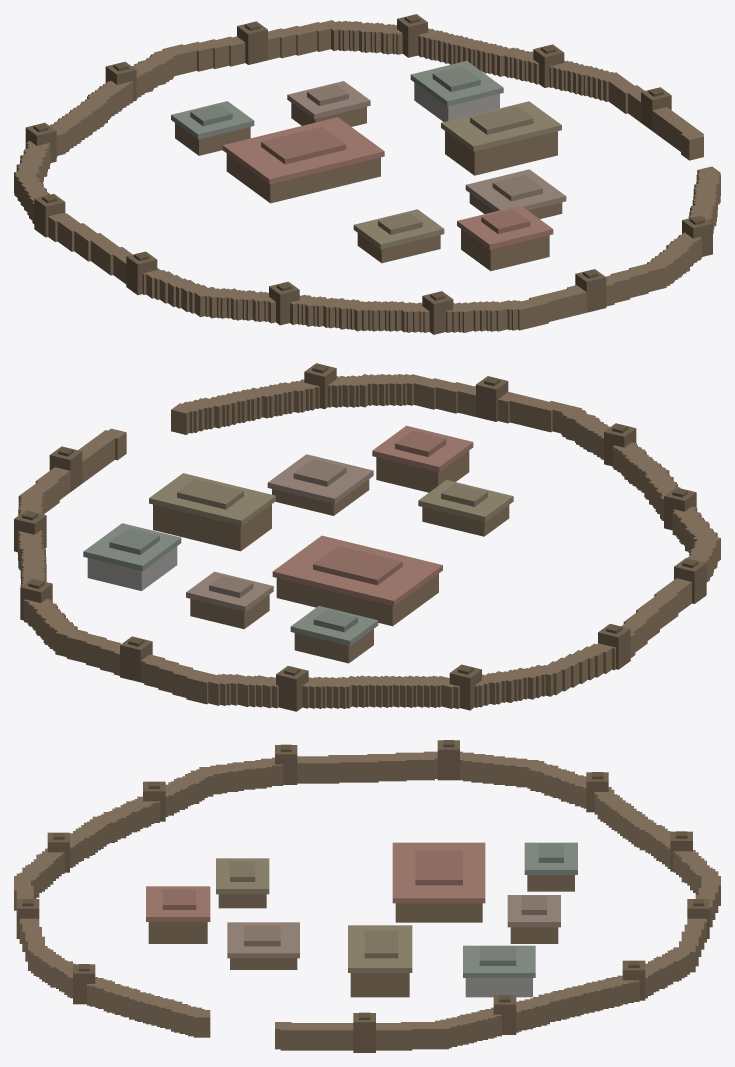
The model's file is ciudad_aldea_maderera_2048_1647_01.glb.
The picture shows the model from 3 angles, top to bottom: view 1: azimuth 30°, elevation 25°; view 2: azimuth 150°, elevation 25°; view 3: azimuth 270°, elevation 25°; orthographic projection. The views are drawn at different scales.
Parts seen in each view (by area): view 1: ciudad_aldea_maderera_2048_1647; view 2: ciudad_aldea_maderera_2048_1647; view 3: ciudad_aldea_maderera_2048_1647.
Part boxes in pixels (box(x1,y1,x2,y2)): ciudad_aldea_maderera_2048_1647: box(14, 14, 720, 334); ciudad_aldea_maderera_2048_1647: box(14, 363, 720, 711); ciudad_aldea_maderera_2048_1647: box(14, 740, 720, 1052).
Bounding box in the file's own units: 59.5 × 3.5 × 63.
